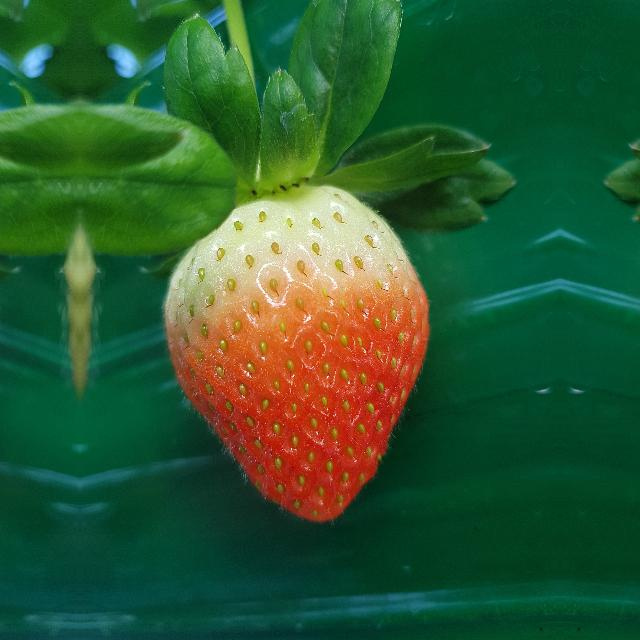Health_75: (159, 186, 429, 524)
